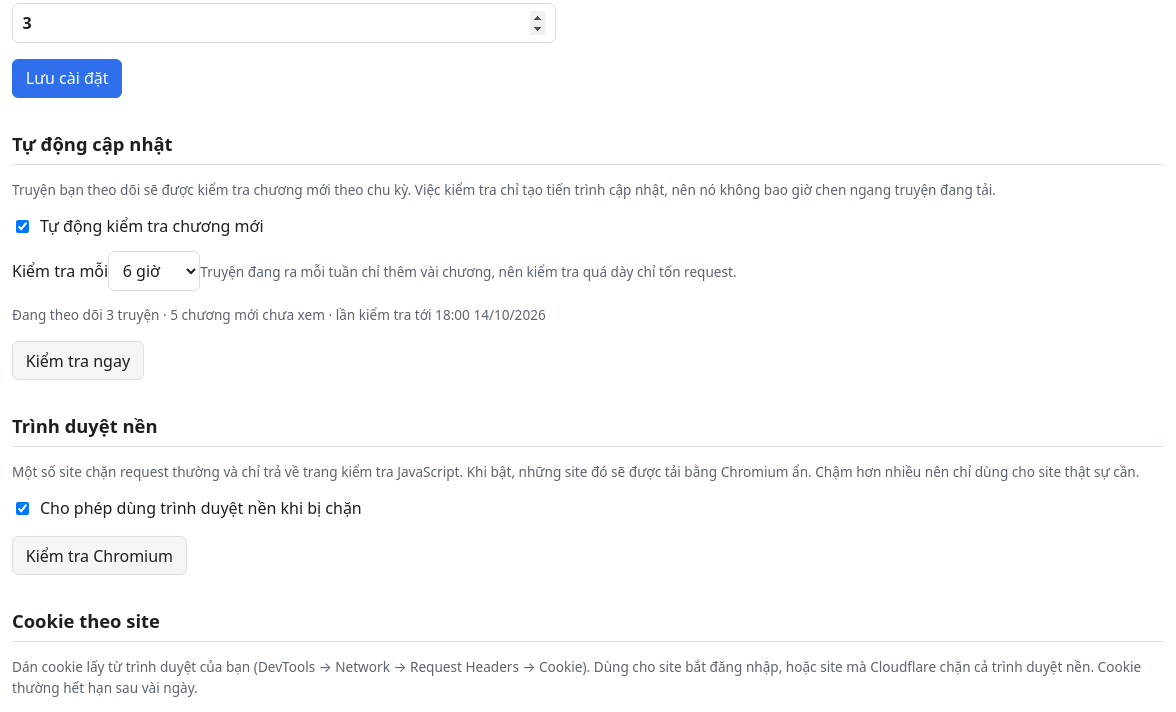
Settings auto update › reports how many jobs a manual check queued
(page scrolled)
What coordinates should you click on to do the following:
click the button "Kiểm tra ngay"
I would click on:
 (78, 361)
Its box is [12,341,144,380].
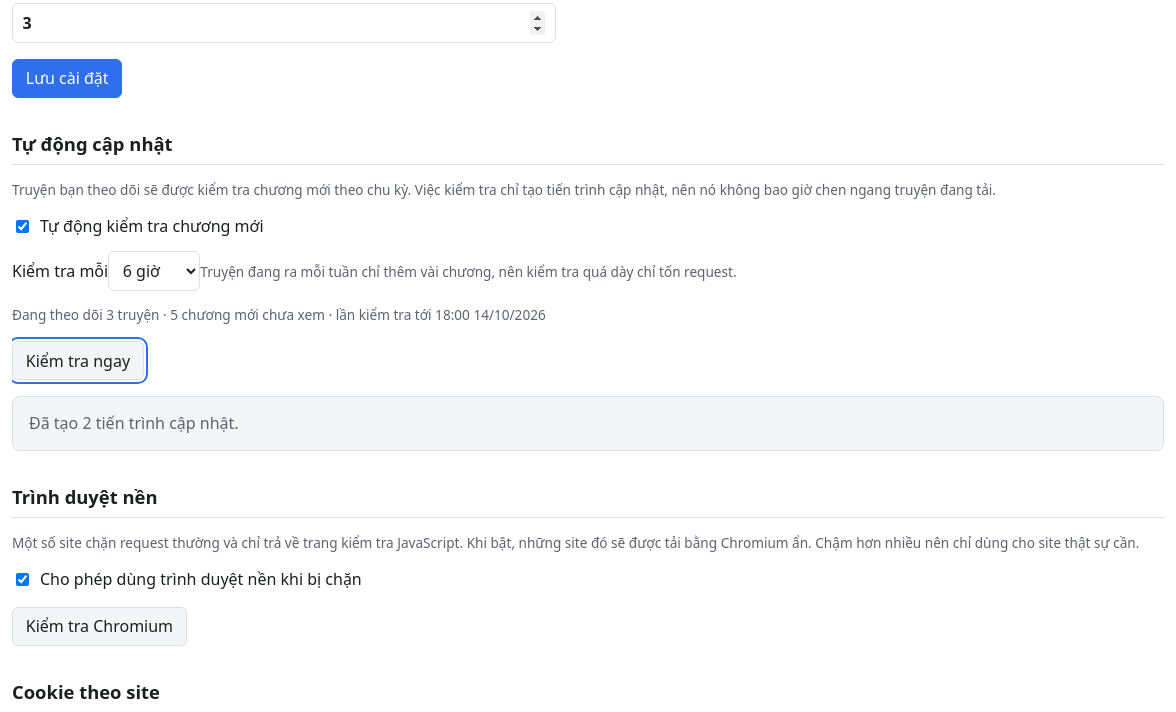
Expected: the text "Đã tạo 2 tiến trình cập nhật." is shown, [12,396,1164,451]
